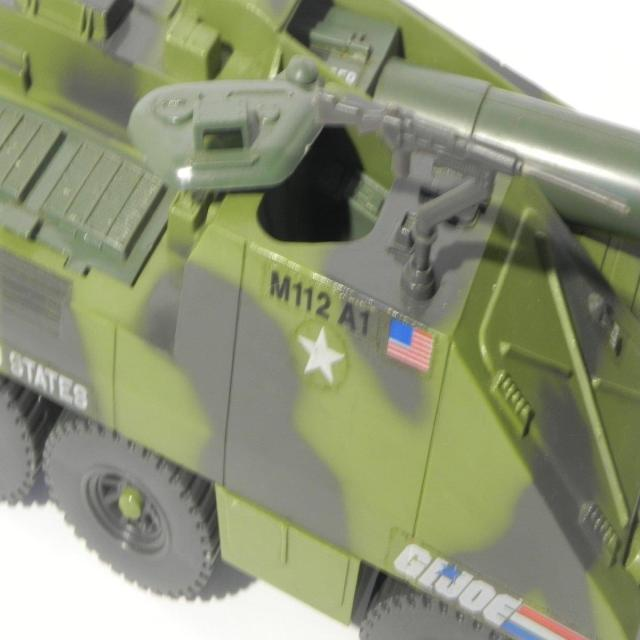Tanks: (48, 45, 571, 286)
